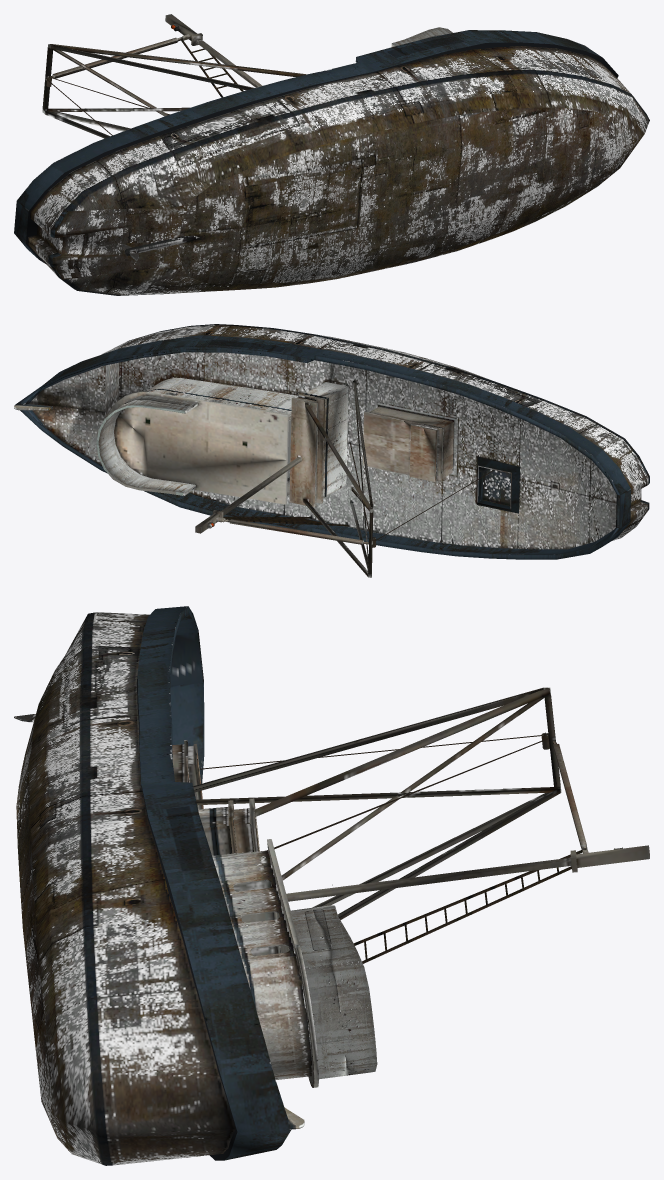
The model's file is smallBoat2R.obj.
3 renders of one model, top to bottom at view 1: azimuth 30°, elevation 25°; view 2: azimuth 150°, elevation 25°; view 3: azimuth 270°, elevation 25°, orthographic. The views are drawn at different scales.
Parts seen in each view (by area): view 1: boat_fishing_01; view 2: boat_fishing_01; view 3: boat_fishing_01.
Part boxes in pixels (left/top/right/bottom): boat_fishing_01: left=14, top=14, right=649, bottom=295; boat_fishing_01: left=14, top=324, right=649, bottom=577; boat_fishing_01: left=14, top=606, right=649, bottom=1165.
Size of the model in its own units: 3.75 by 1.09 by 2.22.
